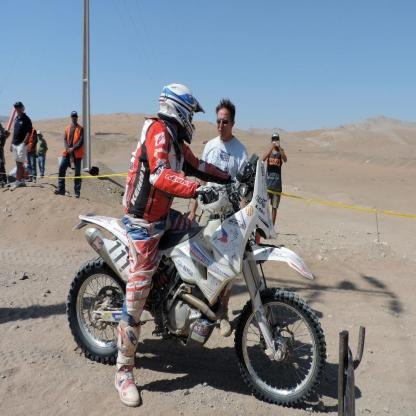Helmet: (159, 81, 204, 146)
